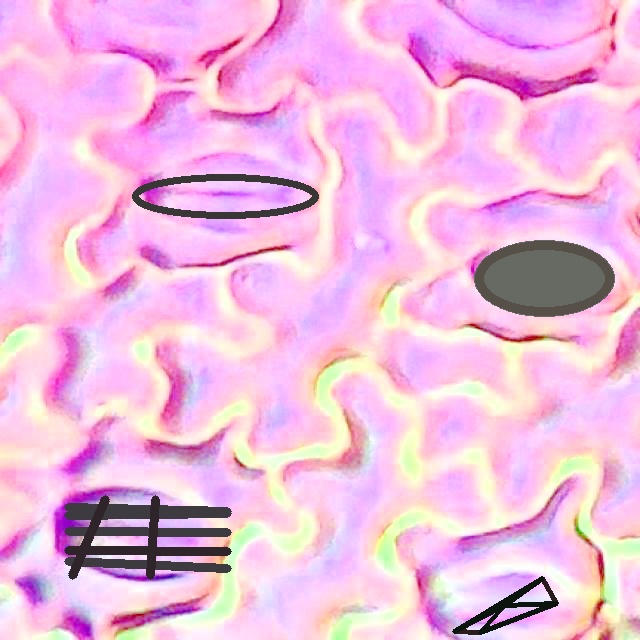close: (130, 173, 319, 219), (452, 577, 557, 633)
open: (64, 495, 231, 579), (474, 239, 613, 316)
